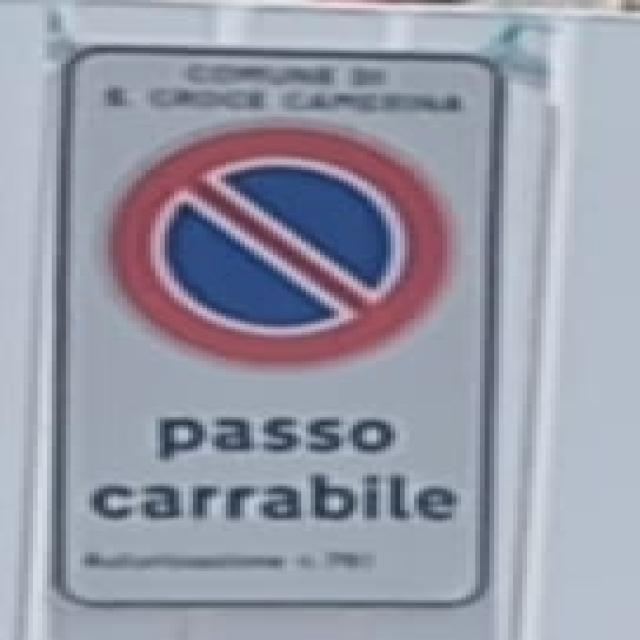forb_stopping: (102, 117, 456, 377)
